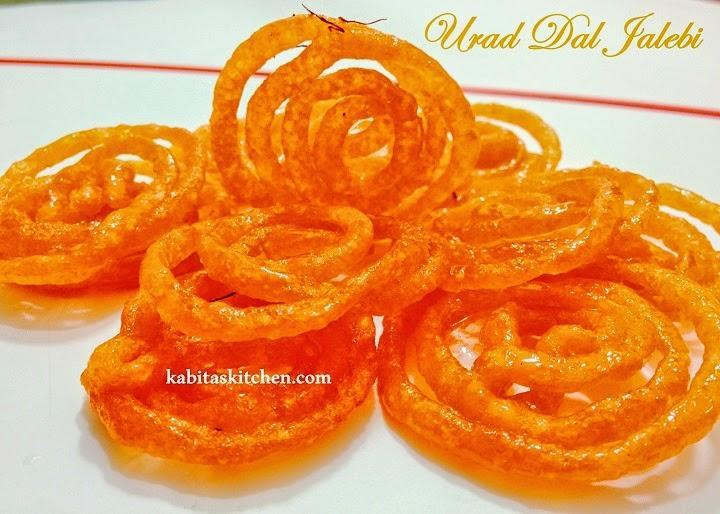jalebi: (10, 28, 720, 501)
